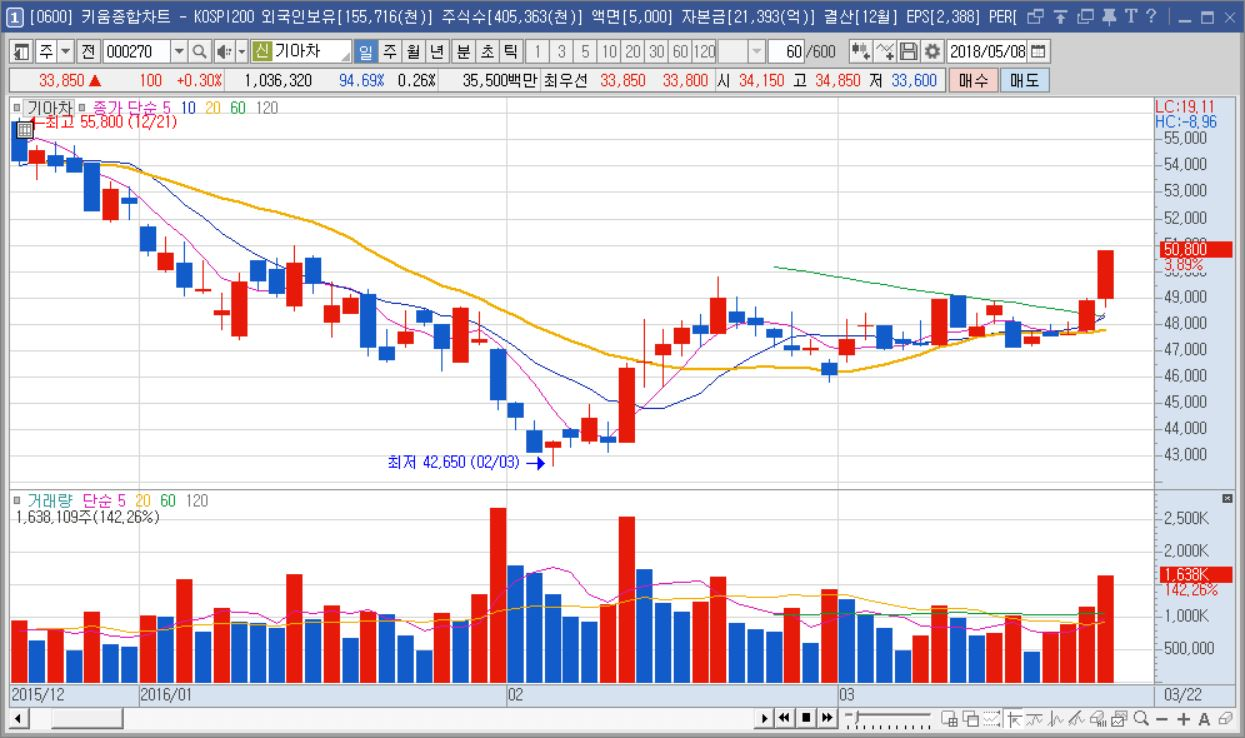up: (544, 246, 1116, 682)
